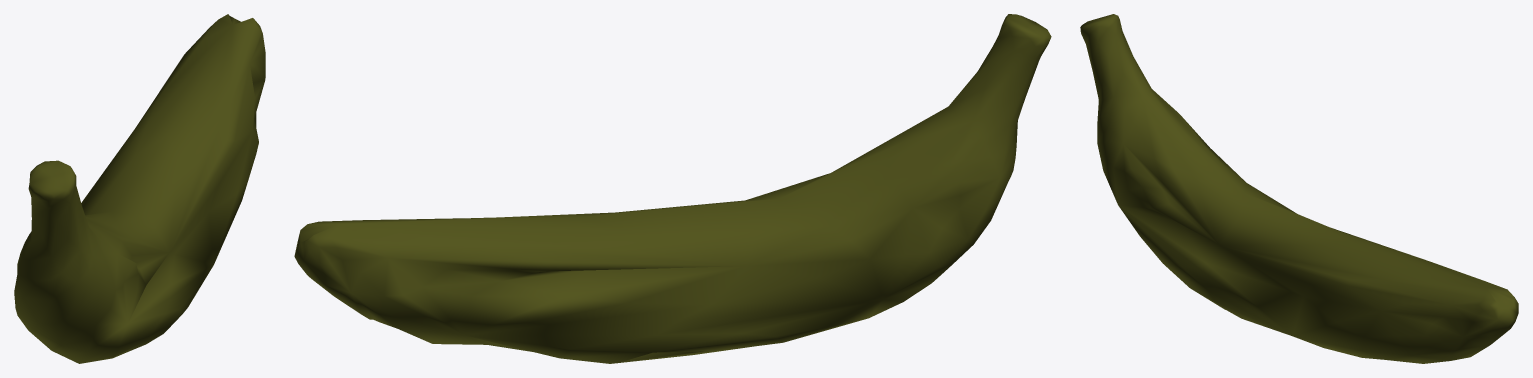
The model's file is Banana_rotten.fbx.
3 renders of one model, left to right at view 1: azimuth 30°, elevation 25°; view 2: azimuth 150°, elevation 25°; view 3: azimuth 270°, elevation 25°, orthographic. The views are drawn at different scales.
Parts seen in each view (by area): view 1: Icosphere_00_001; view 2: Icosphere_00_001; view 3: Icosphere_00_001.
Part boxes in pixels (x1,y1,x2,y2): Icosphere_00_001: (14,14,265,363); Icosphere_00_001: (294,14,1051,363); Icosphere_00_001: (1080,14,1518,363).
Size of the model in its own units: 1.62 by 0.9323 by 1.57.
